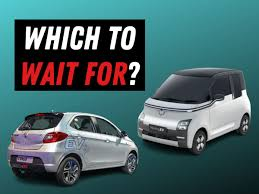Tiago: (7, 109, 142, 187)
